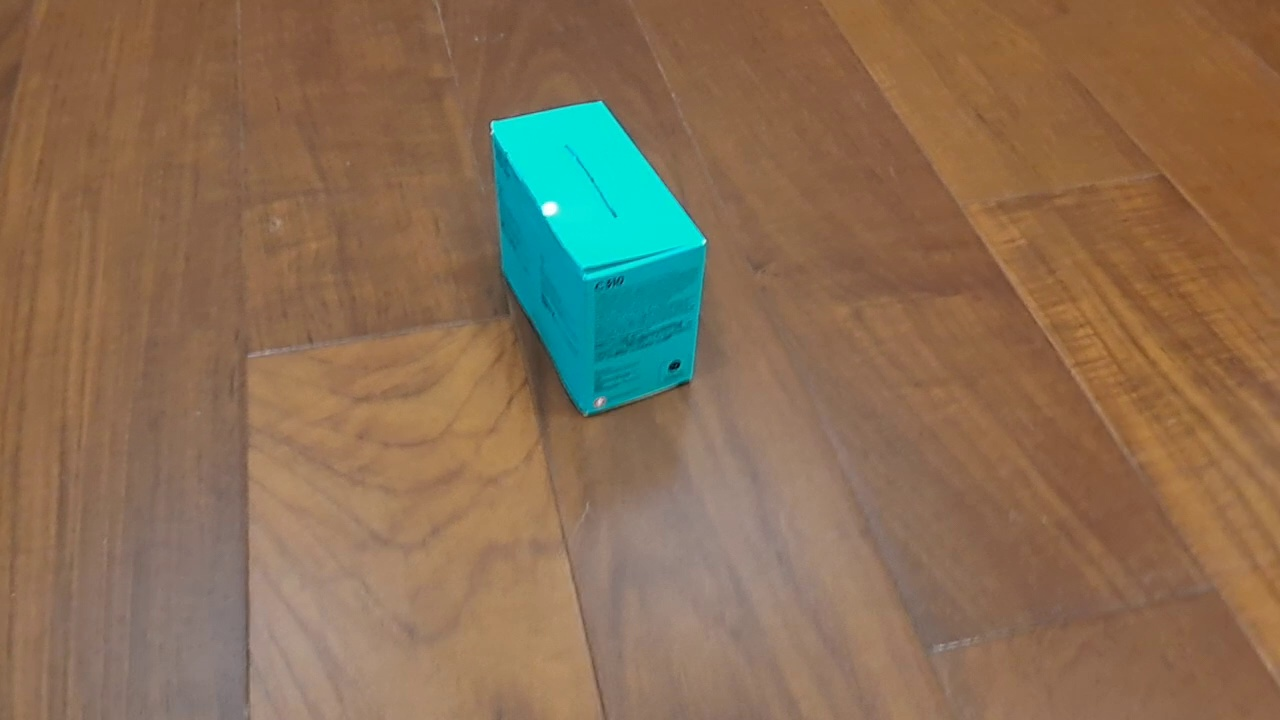webcam: (488, 98, 710, 419)
